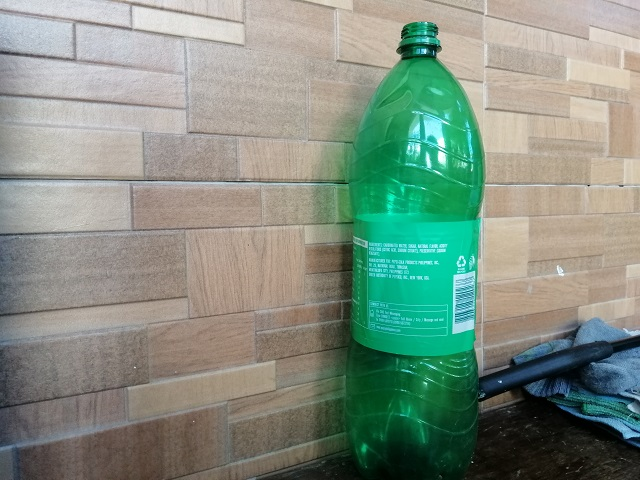bottle: (346, 20, 479, 480)
wall: (4, 5, 340, 454), (489, 4, 640, 315)
